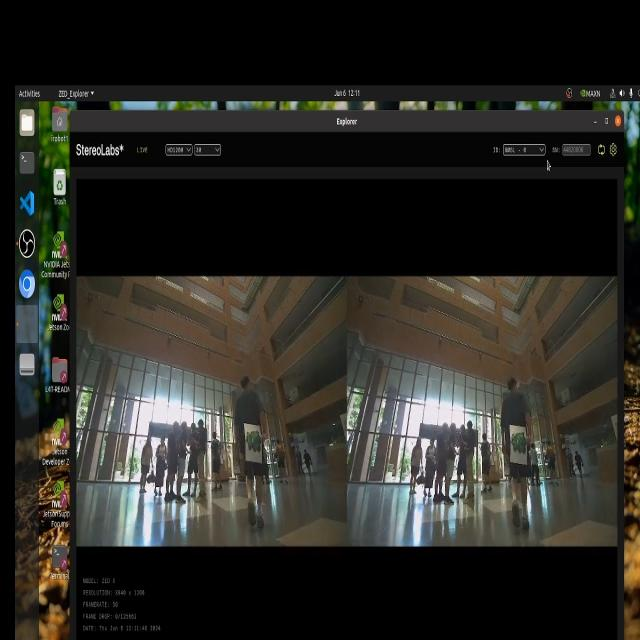green: (513, 433, 532, 461), (247, 430, 261, 451)
